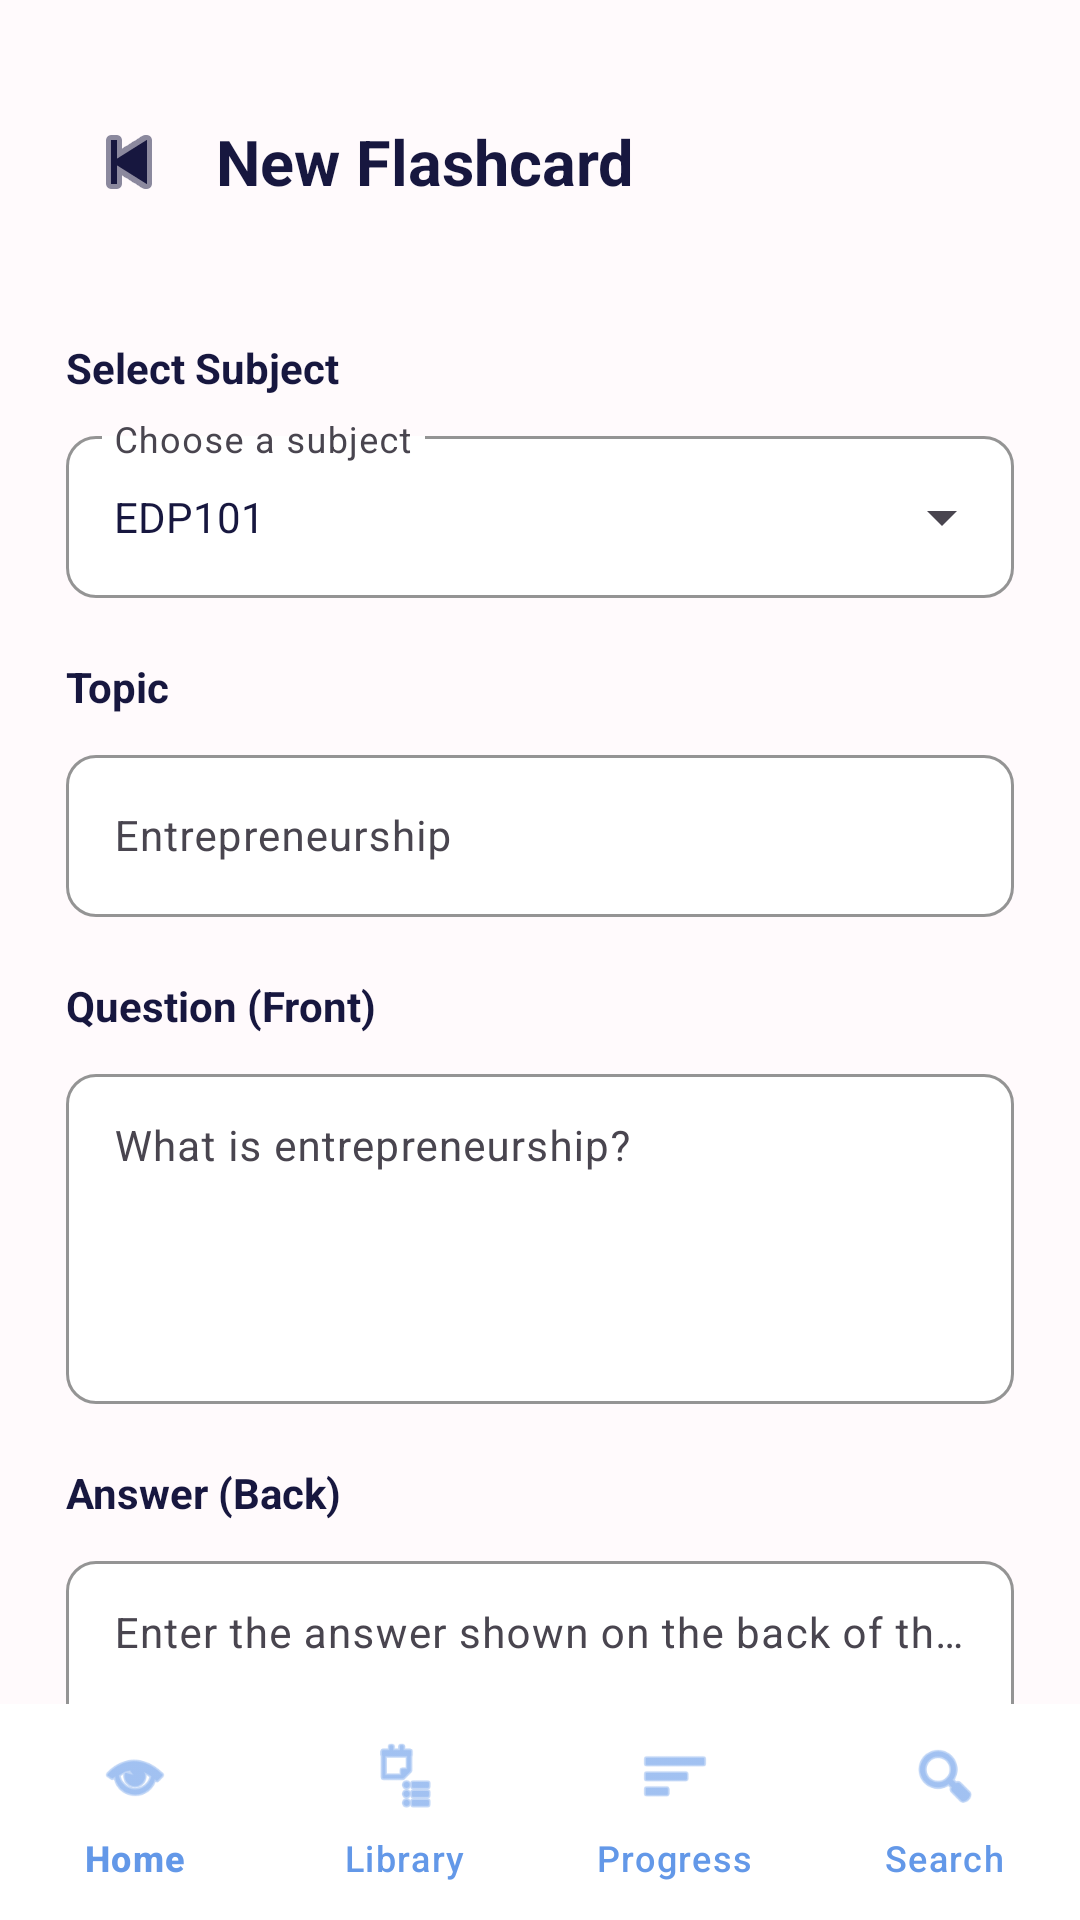

Icons on this 1080 x 1920 Android screen, each with its box as Rect(x1, y1, x2, y2):
Go back: Rect(106, 135, 152, 189)
